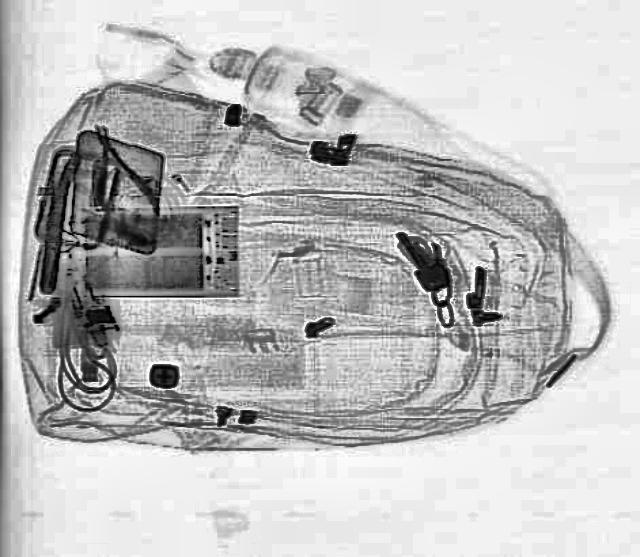Pliers: (70, 117, 158, 224)
